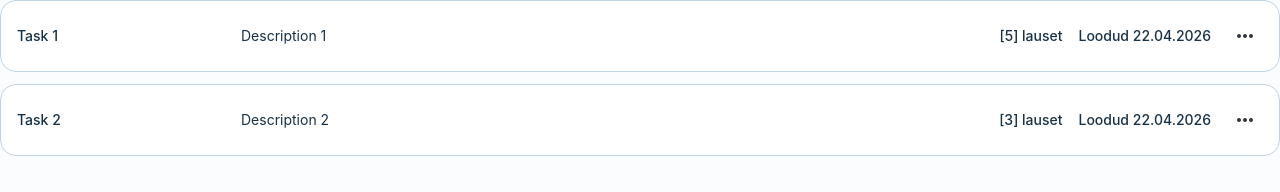
Test: TaskManager › should open menu when more options clicked
Step 1. Click the 1st button named "Rohkem valikuid" → (1245, 36), box [1227, 18, 1263, 54]
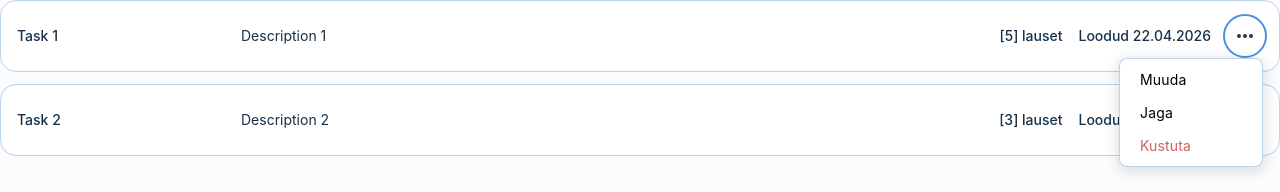
Expected: the text "Muuda" is shown, [1140, 69, 1186, 90]
Expected: the text "Jaga" is shown, [1140, 102, 1173, 123]
Expected: the text "Kustuta" is shown, [1140, 135, 1191, 156]
